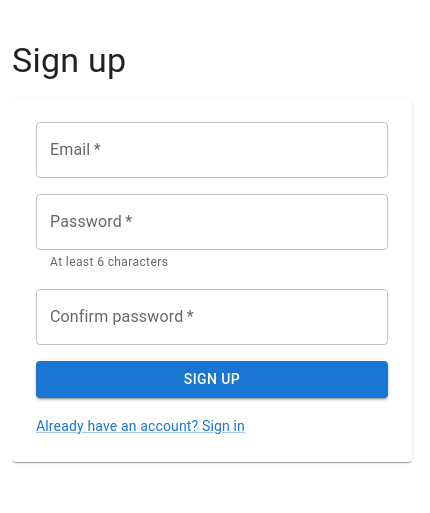
Test: SignupPage › shows error when passwords do not match
Type "test@example.com" into the field labelled "Email *" at [212, 150], box 36,122 -> 388,178
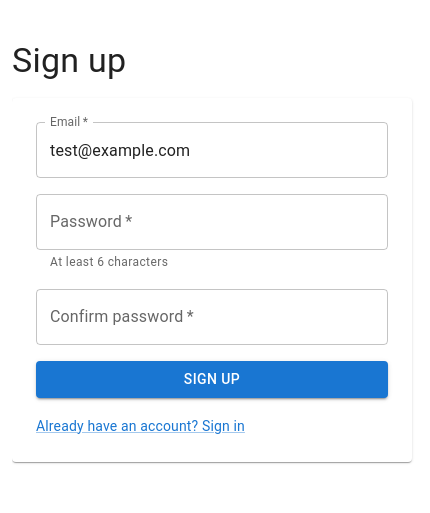
Type "password1" into the password field labelled "Password *" at [212, 222], box 36,194 -> 388,250
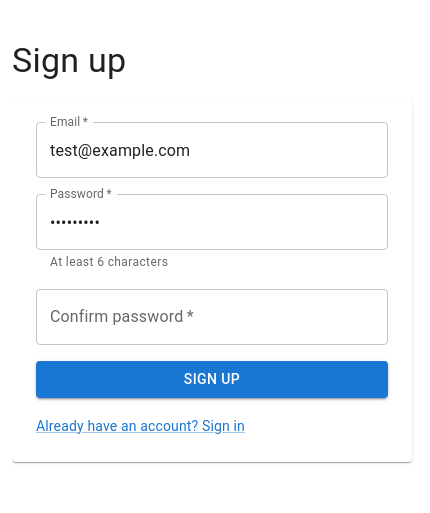
Type "password2" into the password field labelled "Confirm password *" at [212, 317], box 36,289 -> 388,345
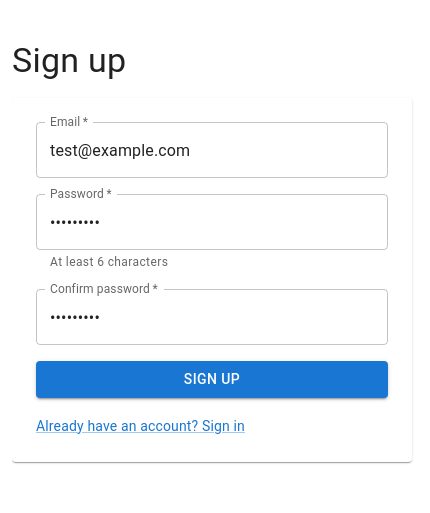
Submit the form from the button "Sign up", box 36,361 -> 388,398
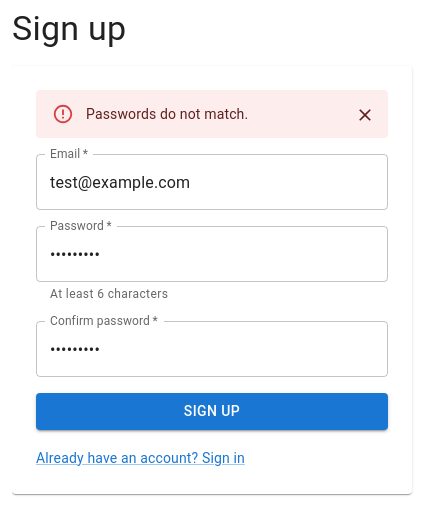
Result: the text "Passwords do not match." is shown at 86,106 -> 248,122
